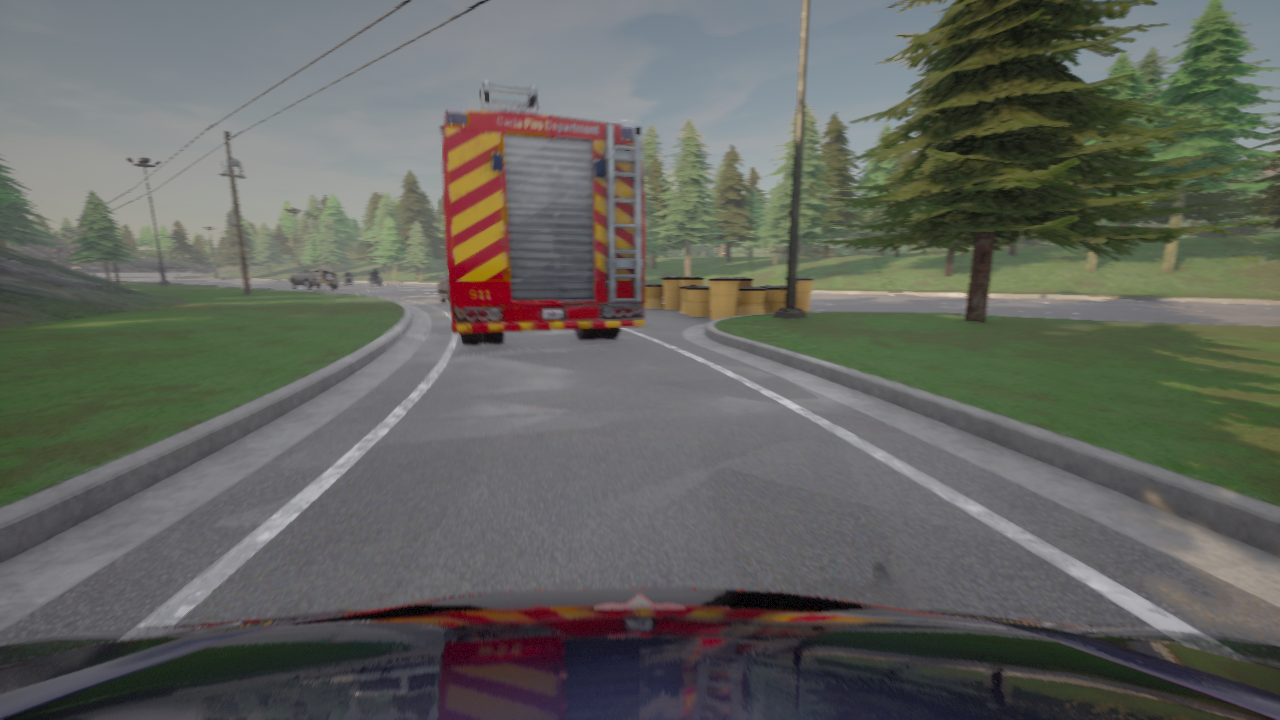cyclist: (0, 588, 1279, 719), (440, 79, 645, 344), (288, 265, 339, 289), (438, 271, 450, 302), (369, 273, 381, 284), (343, 275, 353, 284)
